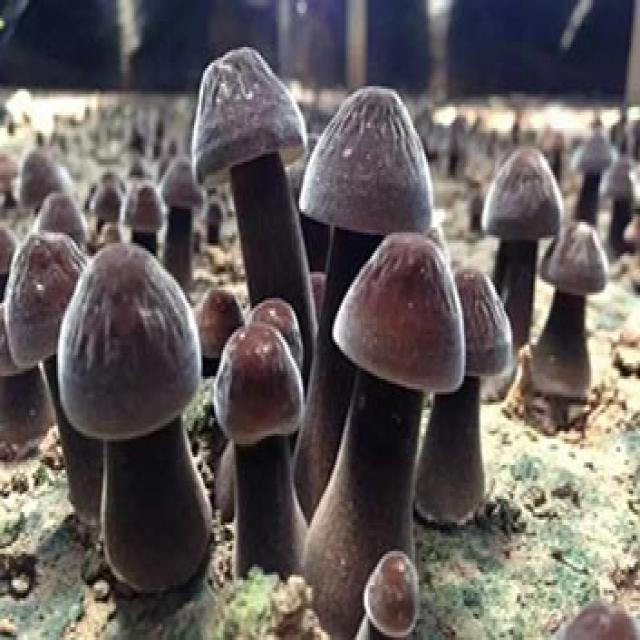Collybia albuminosa: (300, 84, 435, 532), (60, 245, 216, 578), (190, 46, 319, 394), (214, 324, 312, 582), (429, 269, 512, 523), (478, 153, 560, 348), (534, 222, 604, 403), (7, 232, 87, 385), (350, 548, 423, 635), (124, 179, 160, 245)
